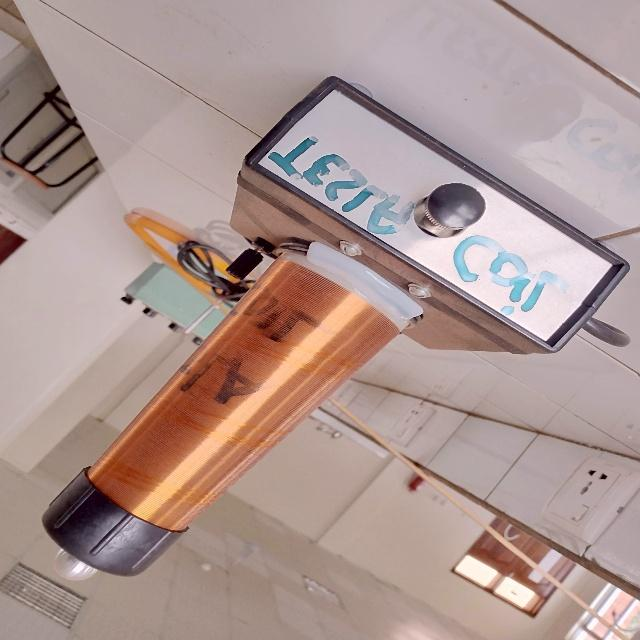Tesla Coil: (21, 76, 638, 600)
